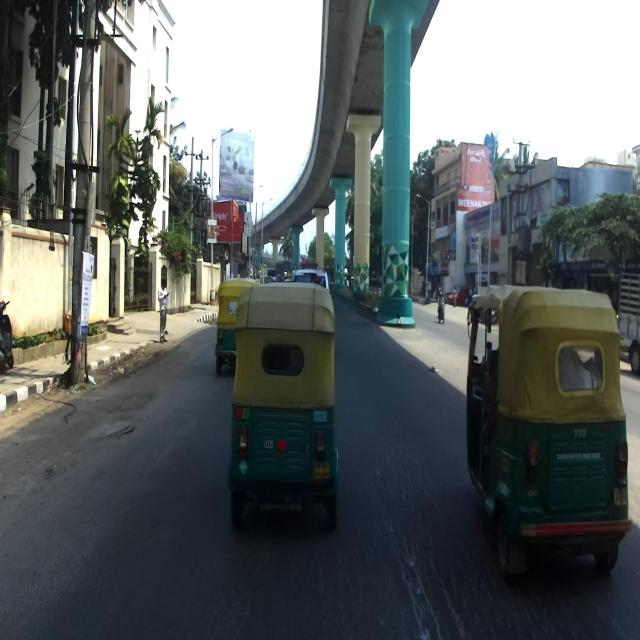autorickshaw: (464, 281, 633, 589), (224, 281, 341, 531)
car: (291, 265, 332, 300)
